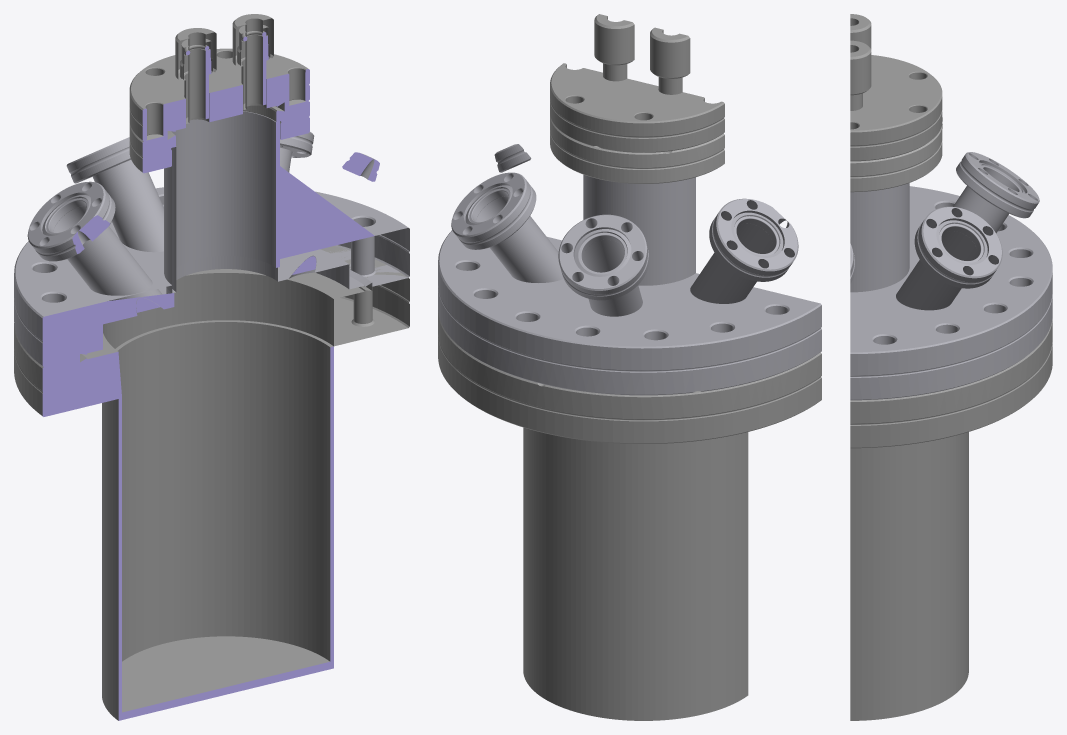
Rendered from libra_pint_cutaway.glb.
3 renders of one model, left to right at view 1: azimuth 30°, elevation 25°; view 2: azimuth 150°, elevation 25°; view 3: azimuth 270°, elevation 25°, orthographic. The views are drawn at different scales.
Visible parts, largest first — view 1: geometry_0, geometry_4, geometry_1, geometry_5, geometry_3, geometry_2; view 2: geometry_0, geometry_4, geometry_2; view 3: geometry_0, geometry_4, geometry_2.
Part boxes in pixels (x1,y1,x2,y2): geometry_0: [14, 14, 409, 720]; geometry_4: [14, 111, 409, 365]; geometry_1: [42, 32, 333, 720]; geometry_5: [42, 121, 379, 366]; geometry_3: [142, 101, 309, 173]; geometry_2: [129, 99, 305, 172]; geometry_0: [438, 14, 821, 720]; geometry_4: [438, 144, 821, 395]; geometry_2: [550, 114, 724, 183]; geometry_0: [850, 14, 1052, 720]; geometry_4: [850, 152, 1052, 400]; geometry_2: [850, 124, 942, 192].
Bounding box in the file's own units: 0.1516 × 0.2624 × 0.0758.
